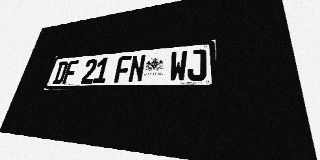1: (92, 57, 110, 83)
2: (81, 58, 98, 84)
D: (52, 61, 69, 84)
F: (114, 55, 132, 83), (62, 60, 79, 84)
J: (187, 49, 206, 81)
N: (128, 54, 146, 83)
W: (169, 50, 188, 82)
